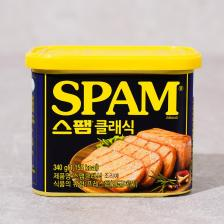spam: (25, 44, 202, 196)
